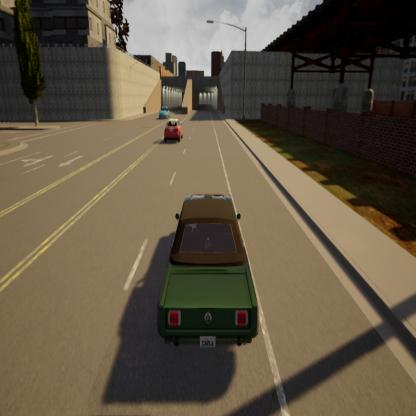Cars: (149, 188, 267, 364), (162, 116, 186, 146), (158, 104, 171, 122)
